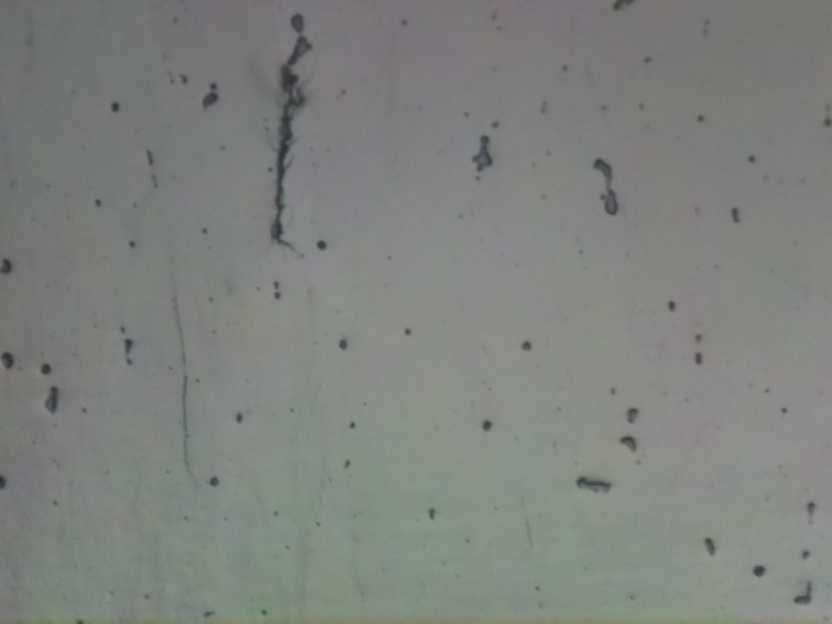crack: (265, 29, 312, 242)
